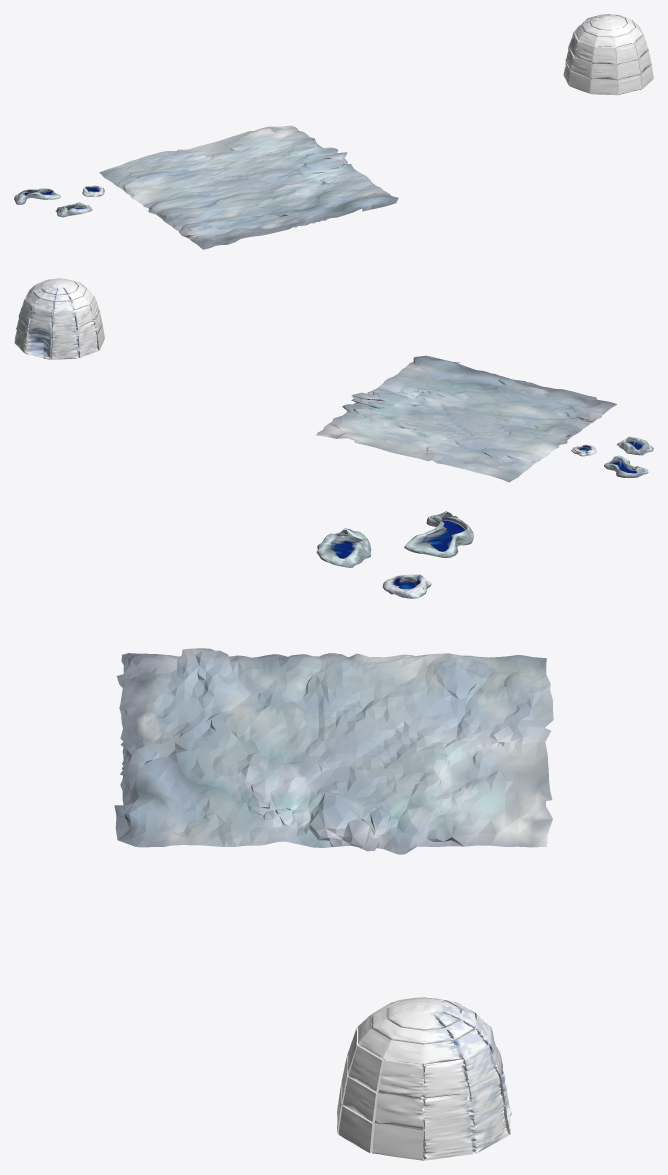
The model's file is SEGUNDO.glb.
3 renders of one model, top to bottom at view 1: azimuth 30°, elevation 25°; view 2: azimuth 150°, elevation 25°; view 3: azimuth 270°, elevation 25°, orthographic. The views are drawn at different scales.
Visible parts, largest first — view 1: Cube, Cylinder.003, Cylinder.001, Cylinder.002; view 2: Cube, Cylinder.003, Cylinder.001, Cylinder.002; view 3: Cube, Cylinder.003, Cylinder.001, Cylinder.002, Cylinder.
Part boxes in pixels (x1,y1,x2,y2): Cube: (99,125,398,249); Cylinder.003: (563,14,653,95); Cylinder.001: (14,188,60,204); Cylinder.002: (55,202,92,217); Cube: (315,355,616,482); Cylinder.003: (14,278,104,359); Cylinder.001: (604,455,648,477); Cylinder.002: (616,436,653,455); Cube: (114,648,553,854); Cylinder.003: (337,997,511,1160); Cylinder.001: (404,511,473,557); Cylinder.002: (316,528,371,567); Cylinder: (382,574,431,598).
Size of the model in its own units: 44.73 by 4.08 by 13.53.
